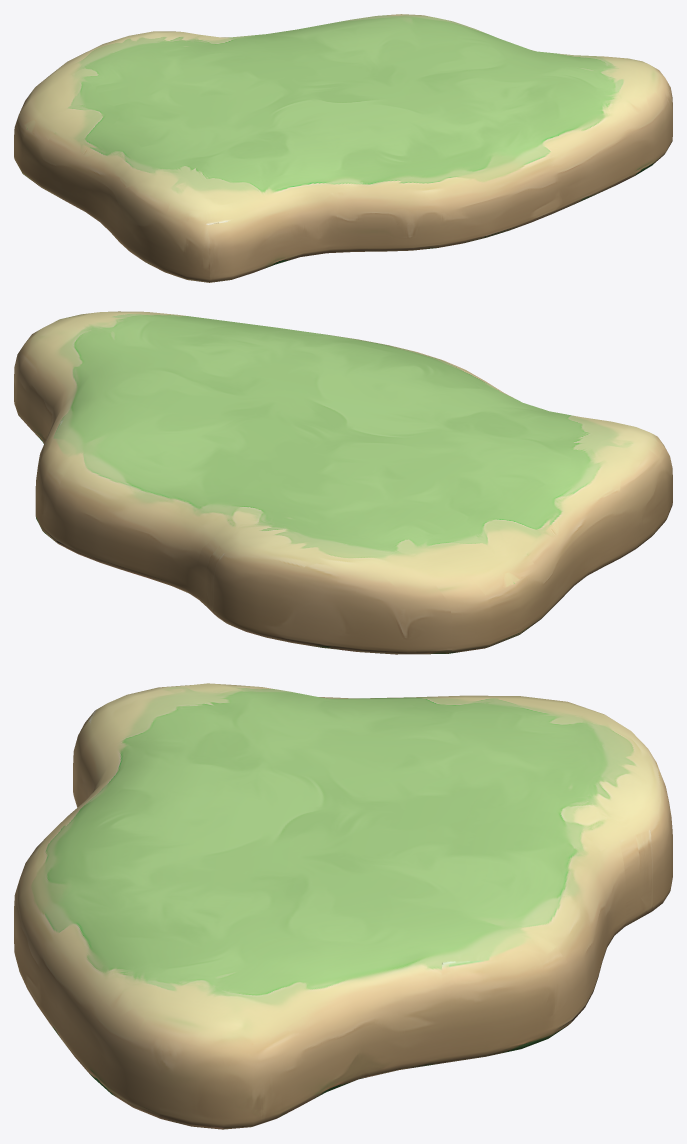
Rendered from island.glb.
3 renders of one model, top to bottom at view 1: azimuth 30°, elevation 25°; view 2: azimuth 150°, elevation 25°; view 3: azimuth 270°, elevation 25°, orthographic. The views are drawn at different scales.
Visible parts, largest first — view 1: Cube; view 2: Cube; view 3: Cube.
Part boxes in pixels (left/top/right/bottom): Cube: left=14, top=14, right=672, bottom=282; Cube: left=14, top=311, right=672, bottom=654; Cube: left=14, top=683, right=672, bottom=1129.
Size of the model in its own units: 13.83 by 2 by 10.5.
Materials: 1 (1 with a texture image).
